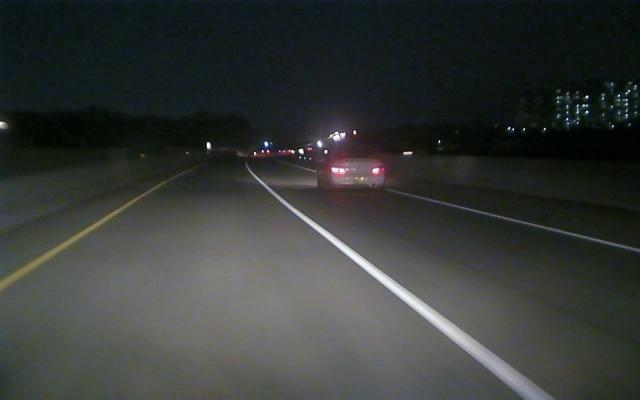lane: (253, 174, 555, 398), (393, 188, 640, 254), (2, 198, 138, 290)
